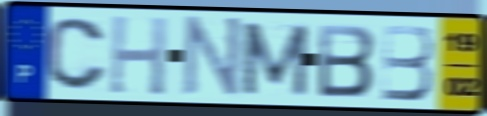B: (316, 22, 378, 99), (379, 22, 435, 103)
C: (44, 15, 110, 93)
H: (106, 13, 170, 98)
M: (240, 19, 312, 98)
N: (180, 14, 246, 102)
